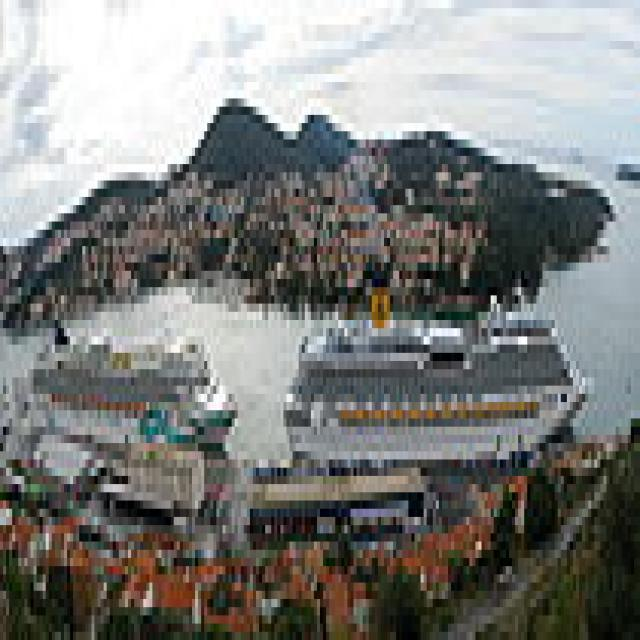Ship: (270, 256, 602, 494), (22, 296, 245, 469)
